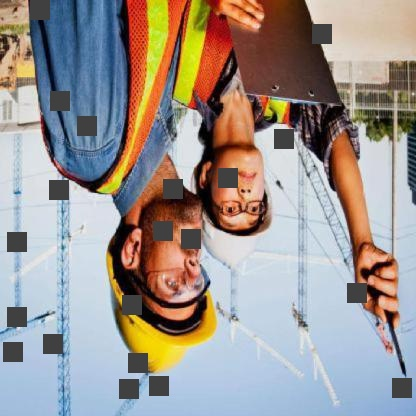vest: (170, 6, 299, 135)
white: (192, 209, 278, 272)
yellow: (95, 250, 220, 380)
